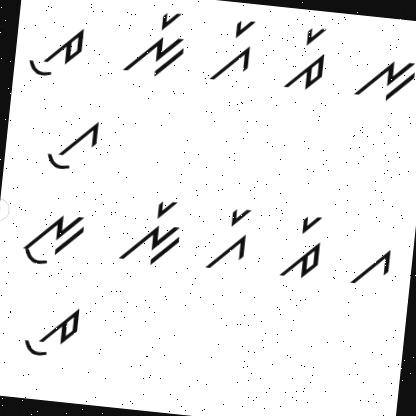ga: (344, 235, 394, 292)
gar: (200, 8, 260, 88), (199, 204, 254, 281)
gaw: (39, 112, 106, 178)
nga: (350, 43, 416, 107)
ngar: (113, 2, 191, 90), (111, 191, 188, 275)
ngaw: (16, 202, 90, 270)
tar: (276, 209, 329, 283), (282, 21, 332, 94)
taw: (24, 14, 92, 91), (14, 294, 82, 362)
